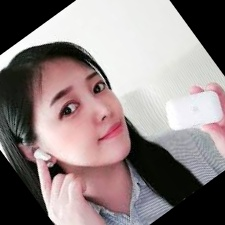earphone: (15, 131, 58, 176)
